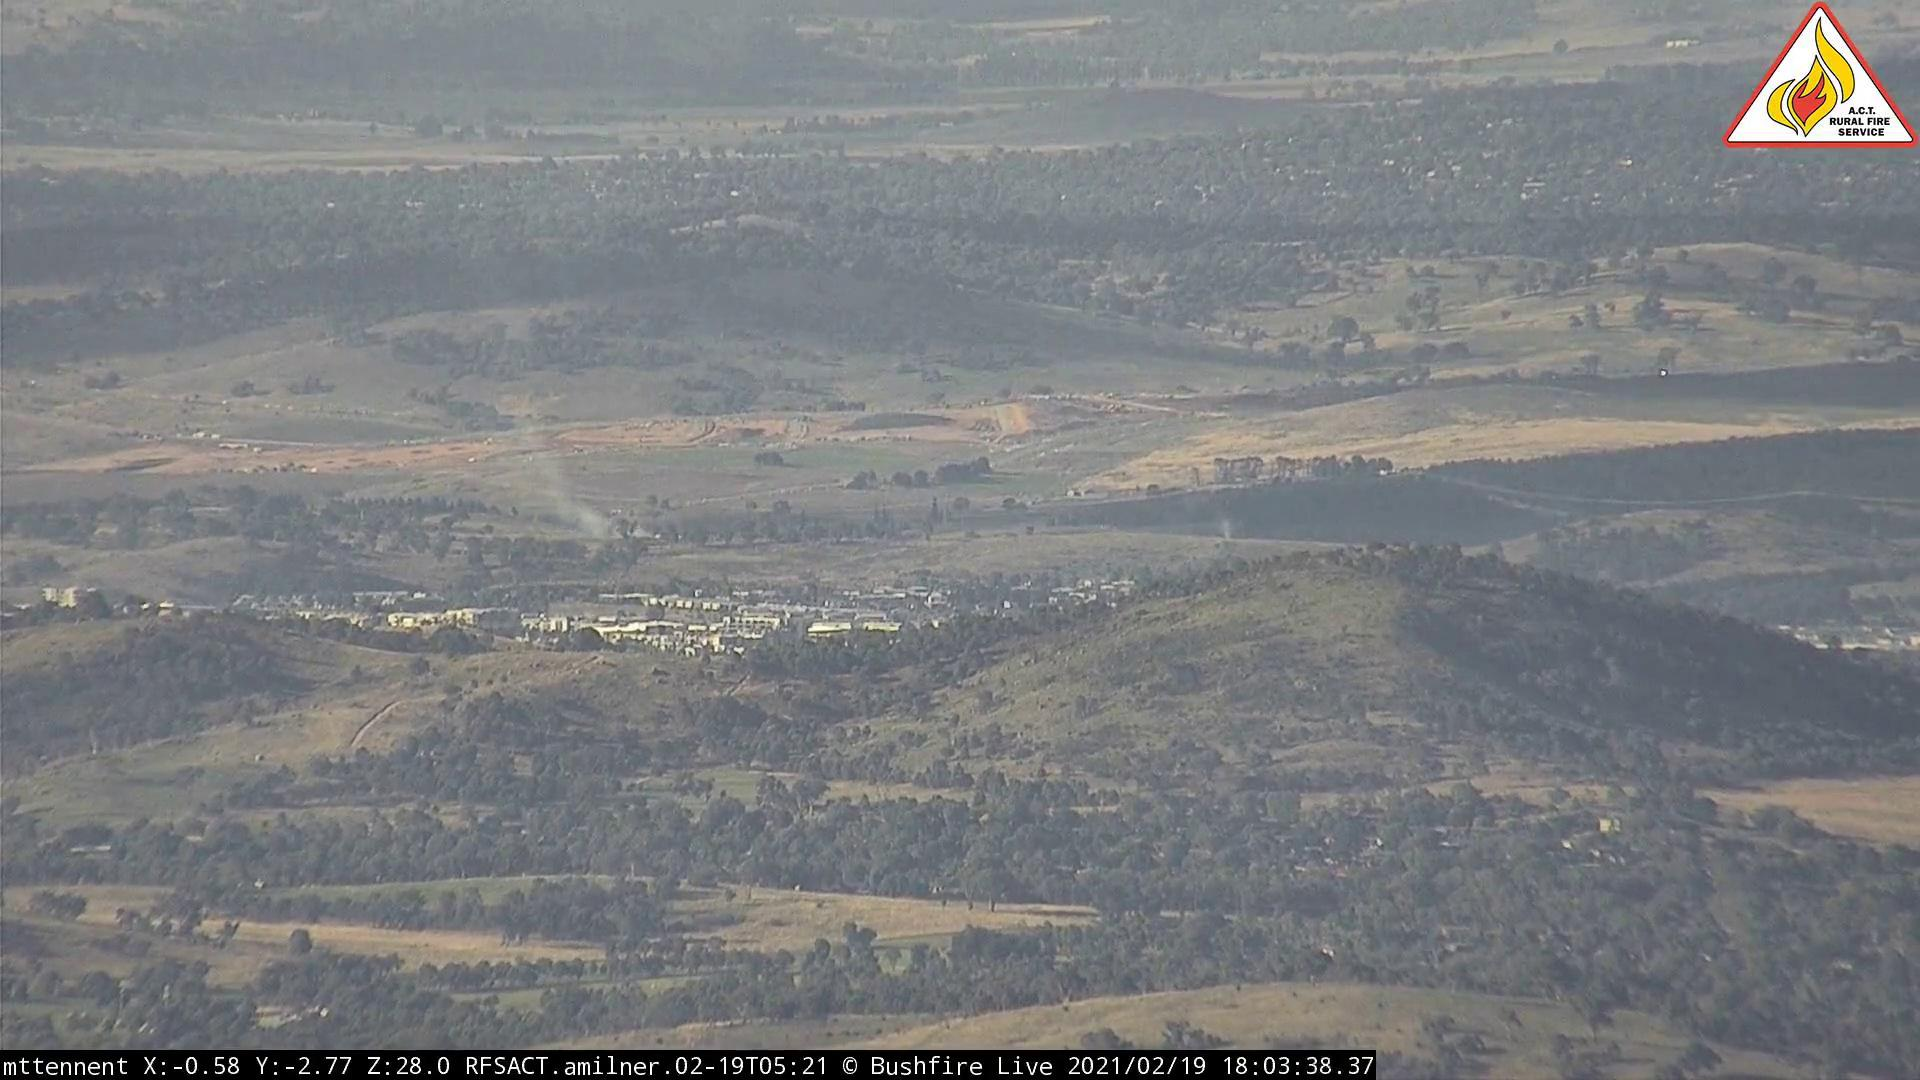Smoke: (512, 462, 670, 545)
